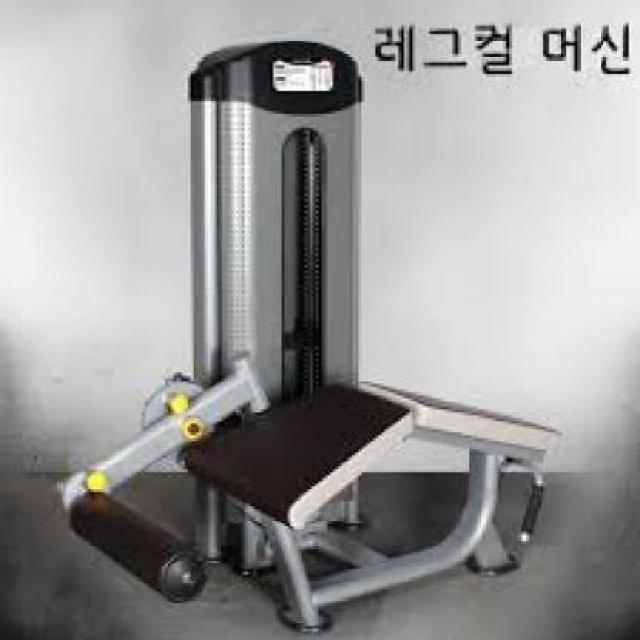reg curl machine: (60, 38, 562, 634)
